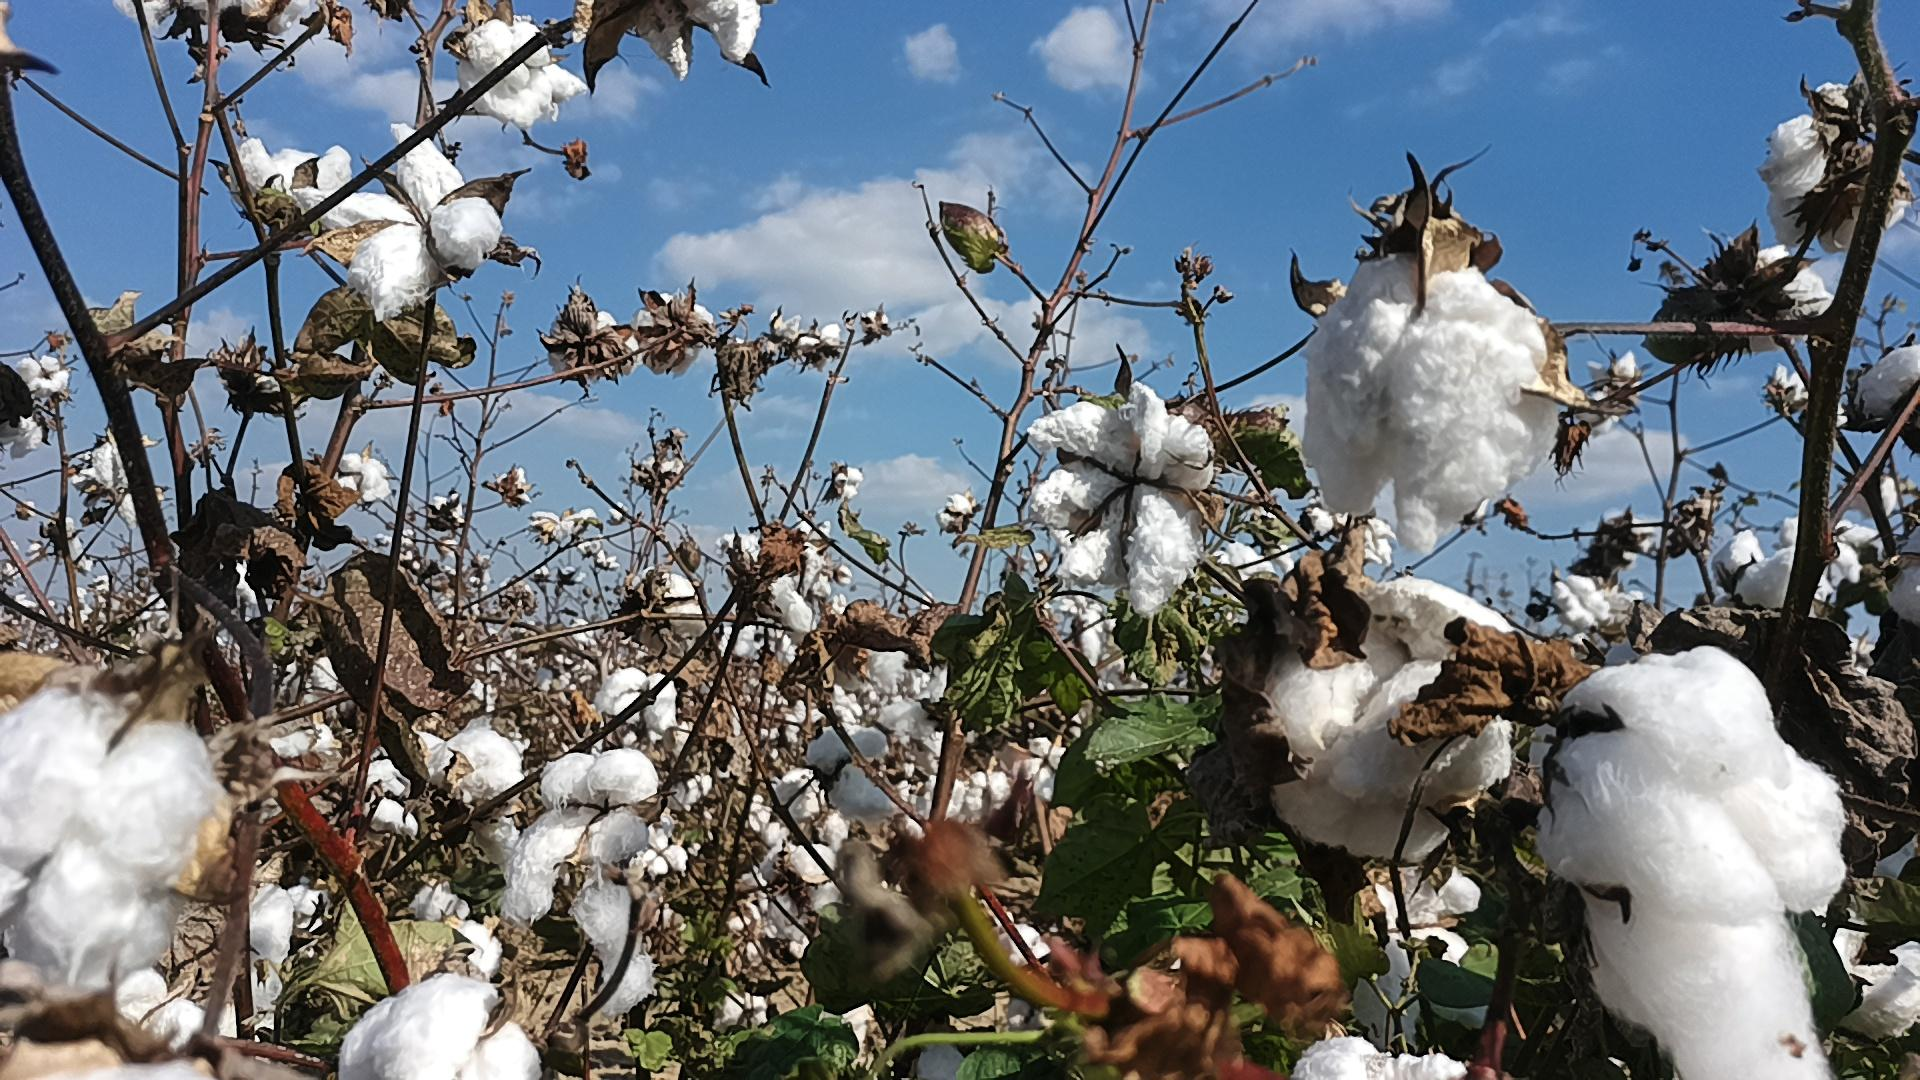cotton_ready: (1532, 646, 1853, 1080), (1300, 245, 1568, 559), (1255, 575, 1518, 865), (0, 675, 228, 994), (1026, 378, 1218, 618), (290, 123, 508, 323), (508, 745, 663, 1018), (1352, 856, 1487, 1048), (334, 971, 549, 1080), (1760, 116, 1909, 261), (212, 885, 336, 1040), (574, 0, 767, 86), (421, 725, 526, 878), (458, 16, 596, 131), (1708, 240, 1841, 357), (1818, 920, 1920, 1040), (719, 530, 822, 640), (803, 721, 901, 822), (1296, 1030, 1476, 1080), (1718, 530, 1812, 625), (237, 136, 353, 211), (1782, 513, 1880, 587), (1847, 343, 1920, 427), (592, 666, 680, 735), (174, 0, 310, 36), (1880, 510, 1920, 621)
